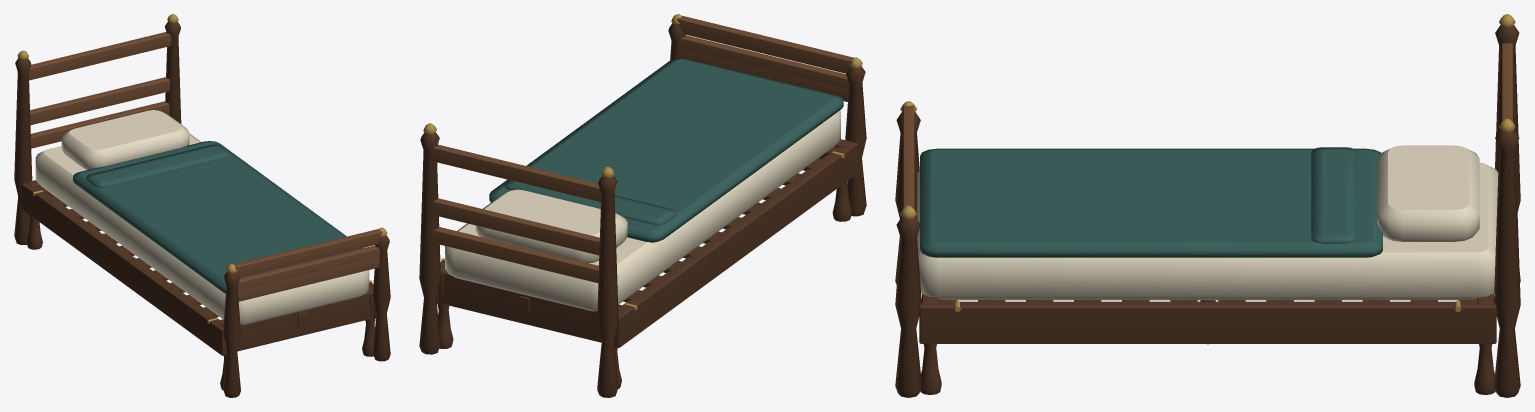
Rendered from rpg-mansion-narrow-servants-bed-01.glb.
The picture shows the model from 3 angles, left to right: view 1: azimuth 30°, elevation 25°; view 2: azimuth 150°, elevation 25°; view 3: azimuth 270°, elevation 25°; orthographic projection. The views are drawn at different scales.
Visible parts, largest first — view 1: rpg-mansion-narrow-servants-bed-01; view 2: rpg-mansion-narrow-servants-bed-01; view 3: rpg-mansion-narrow-servants-bed-01.
Part boxes in pixels (x1,y1,x2,y2): rpg-mansion-narrow-servants-bed-01: (14,14,390,397); rpg-mansion-narrow-servants-bed-01: (419,14,866,397); rpg-mansion-narrow-servants-bed-01: (895,14,1520,397).
Size of the model in its own units: 0.9 by 0.99 by 2.05.
